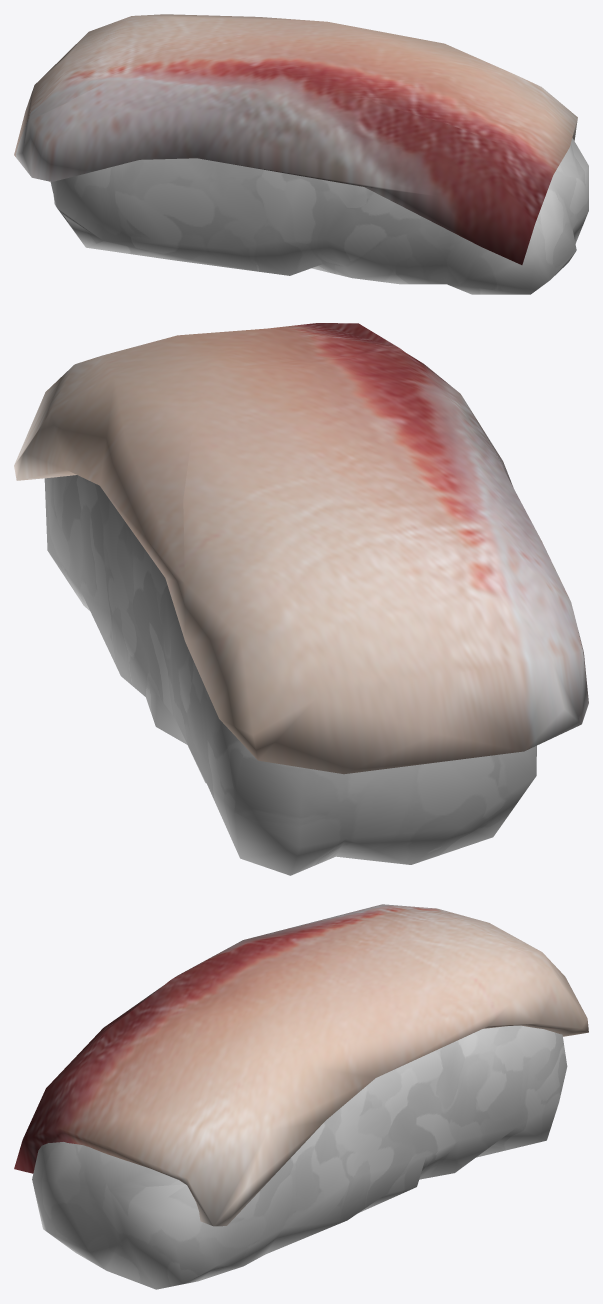
Rendered from _ilsasushi.fbx.
3 renders of one model, top to bottom at view 1: azimuth 30°, elevation 25°; view 2: azimuth 150°, elevation 25°; view 3: azimuth 270°, elevation 25°, orthographic. The views are drawn at different scales.
Parts seen in each view (by area): view 1: Salmon 4.003, Riceball 4.002; view 2: Salmon 4.003, Riceball 4.002; view 3: Salmon 4.003, Riceball 4.002.
Boxes of the visible parts, x1,y1,x2,y2 form: Salmon 4.003: (14,14,577,264); Riceball 4.002: (50,138,588,294); Salmon 4.003: (14,323,588,774); Riceball 4.002: (44,475,536,875); Salmon 4.003: (14,904,588,1226); Riceball 4.002: (32,1025,567,1289).
Size of the model in its own units: 101 by 44.15 by 102.
2 materials, 2 textured.
